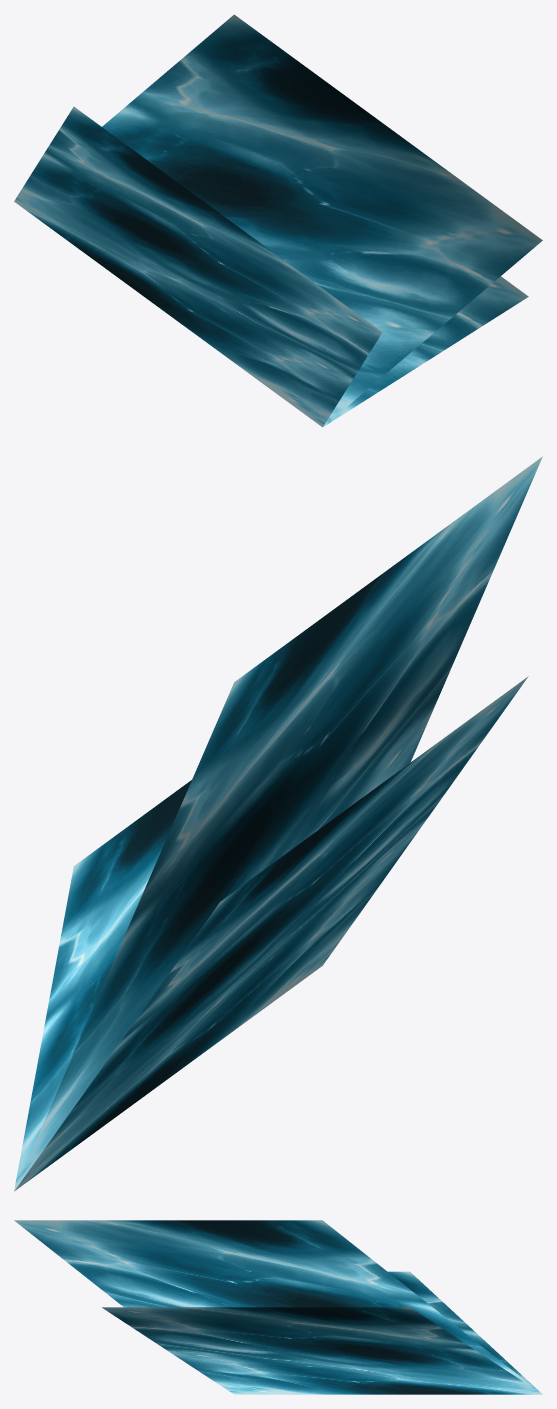
The model's file is zhexian01.FBX.
The picture shows the model from 3 angles, top to bottom: view 1: azimuth 30°, elevation 25°; view 2: azimuth 150°, elevation 25°; view 3: azimuth 270°, elevation 25°; orthographic projection. The views are drawn at different scales.
Visible parts, largest first — view 1: Plane002; view 2: Plane002; view 3: Plane002.
Boxes of the visible parts, x1,y1,x2,y2 form: Plane002: (14,14,542,427); Plane002: (14,456,542,1191); Plane002: (14,1220,542,1394).
Bounding box in the file's own units: 41.05 × 93.37 × 257.
1 material, 1 textured.
